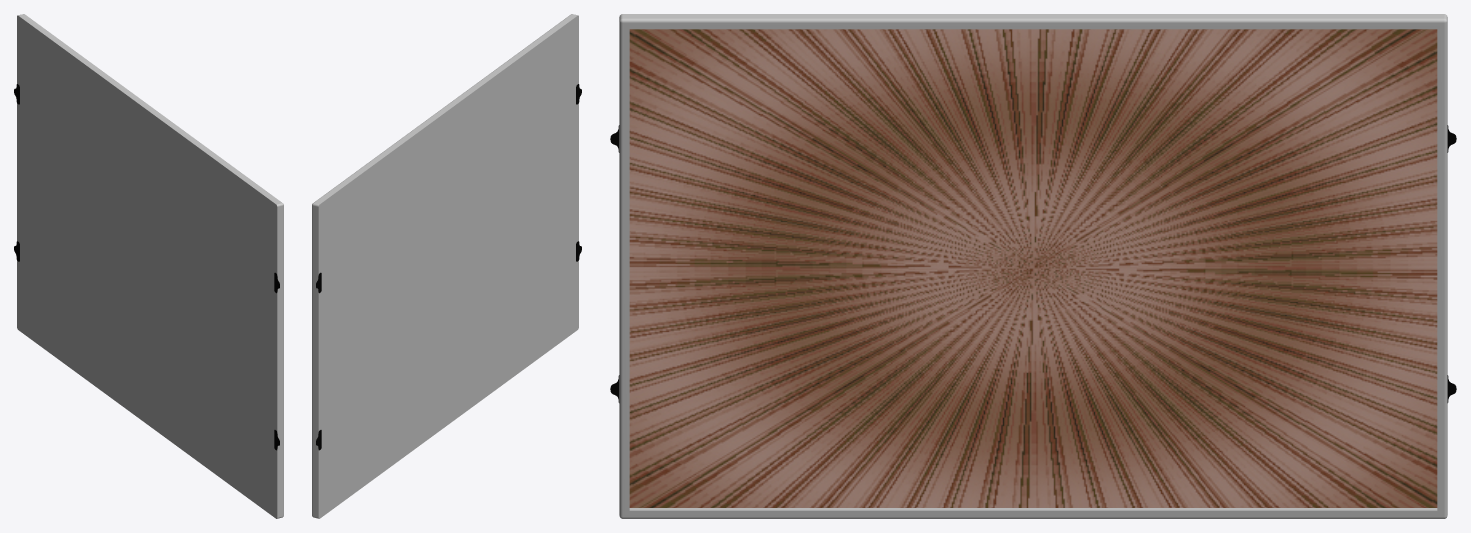
The model's file is quadro.fbx.
The picture shows the model from 3 angles, left to right: view 1: azimuth 30°, elevation 25°; view 2: azimuth 150°, elevation 25°; view 3: azimuth 270°, elevation 25°; orthographic projection. The views are drawn at different scales.
Parts seen in each view (by area): view 1: 23frame_2500.Shape; view 2: 23frame_2500.Shape; view 3: 23frame_2500.Shape.
Boxes of the visible parts, x1=… form: 23frame_2500.Shape: x1=14, y1=14, x2=283, y2=518; 23frame_2500.Shape: x1=312, y1=14, x2=581, y2=518; 23frame_2500.Shape: x1=610, y1=14, x2=1456, y2=518.
Bounding box in the file's own units: 2.09 × 80 × 123.
